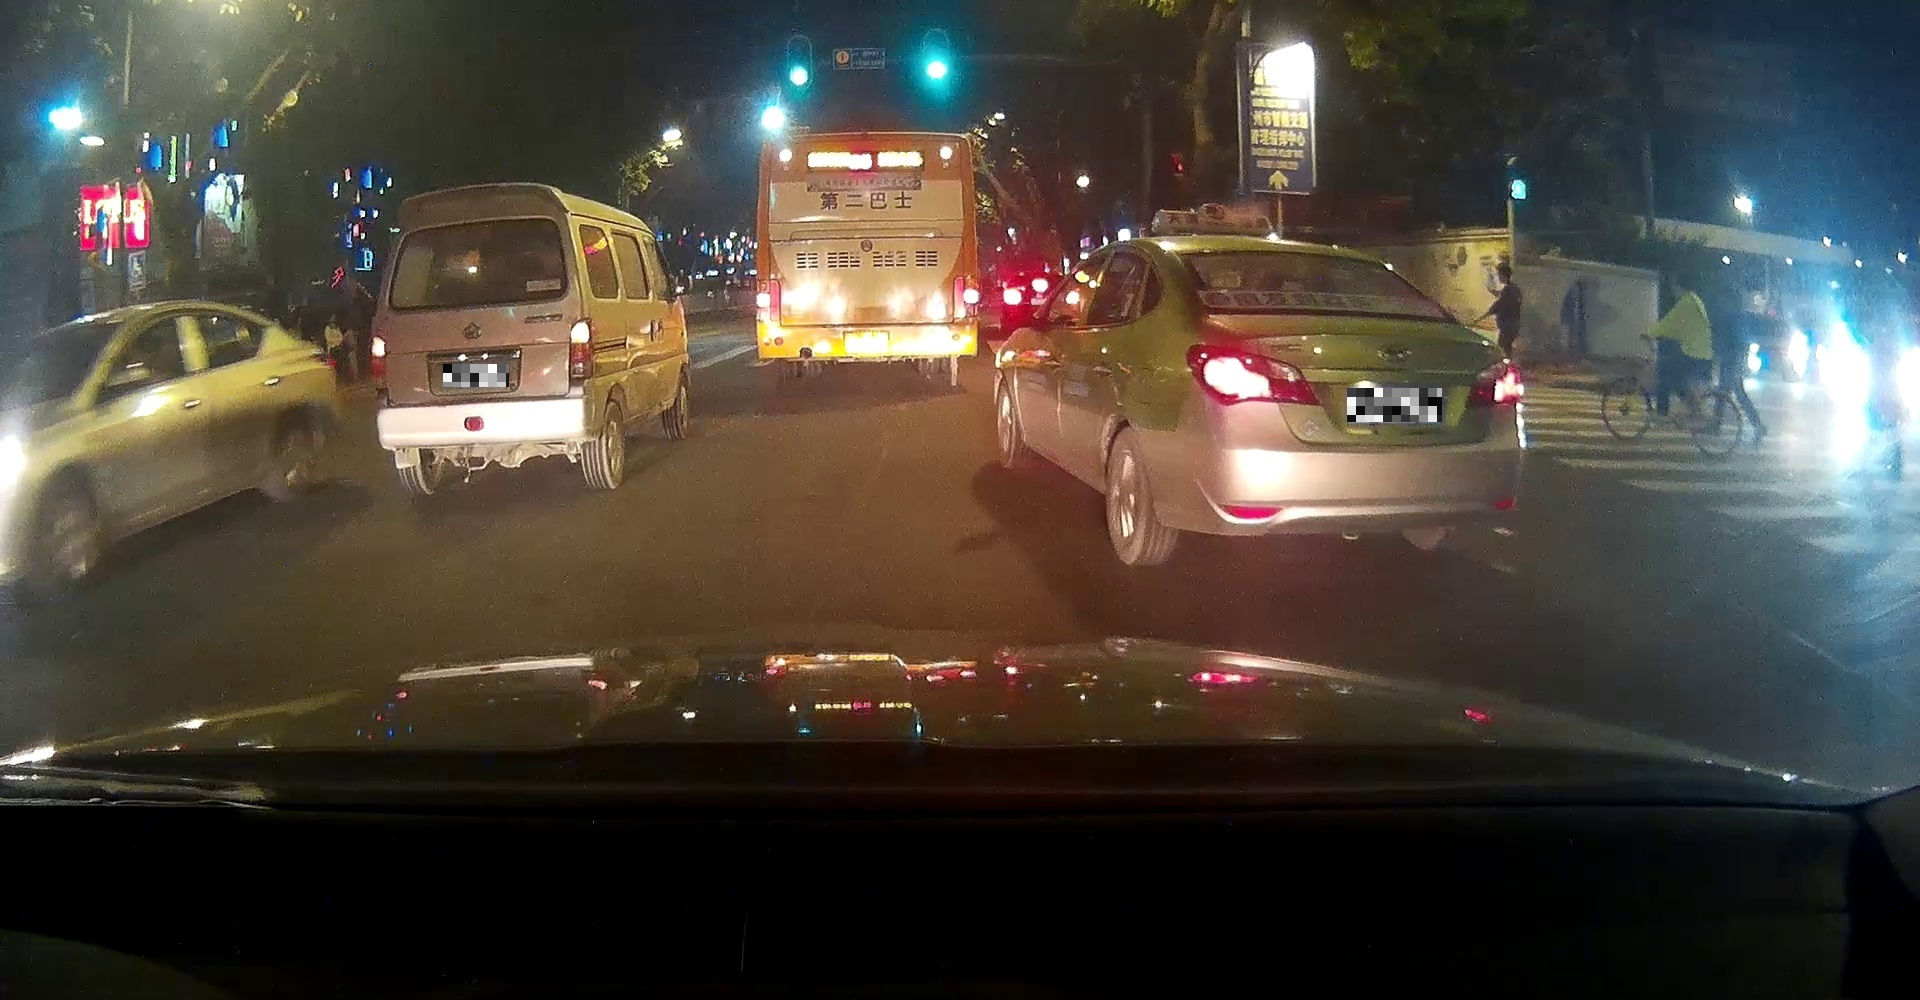L_light: (1185, 343, 1321, 405), (368, 336, 387, 388), (754, 280, 771, 324)
R_light: (1465, 358, 1524, 406), (568, 319, 592, 379), (961, 275, 977, 315)
T_light: (1267, 253, 1314, 261), (450, 225, 485, 235), (853, 140, 883, 148)
night-no: (1167, 242, 1525, 563), (370, 183, 596, 497), (756, 131, 977, 385)
plate_1: (443, 364, 509, 387)
plate_2: (1347, 388, 1443, 423)
